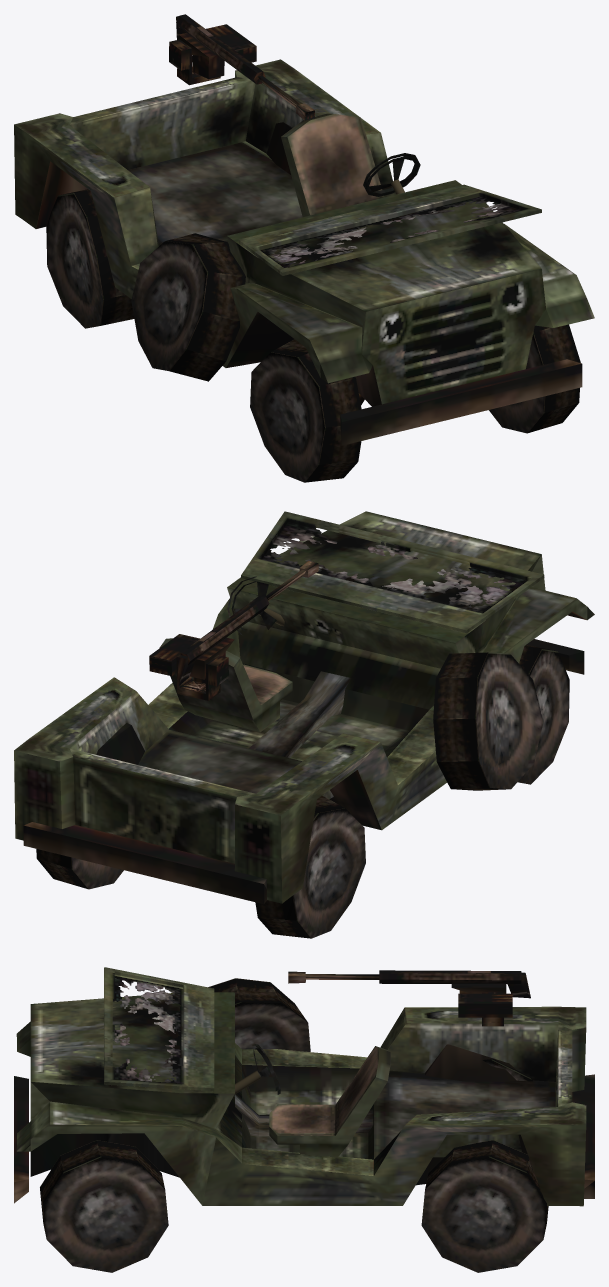
The model's file is FJeep1x.glb.
The picture shows the model from 3 angles, top to bottom: view 1: azimuth 30°, elevation 25°; view 2: azimuth 150°, elevation 25°; view 3: azimuth 270°, elevation 25°; orthographic projection. The views are drawn at different scales.
Visible parts, largest first — view 1: _FJeep1x; view 2: _FJeep1x; view 3: _FJeep1x.
Part boxes in pixels (box(x1,y1,x2,y2)): _FJeep1x: box(14, 14, 594, 482); _FJeep1x: box(14, 511, 594, 938); _FJeep1x: box(14, 967, 594, 1272).
Bounding box in the file's own units: 2.38 × 1.93 × 4.16.
Materials: 1 (1 with a texture image).
